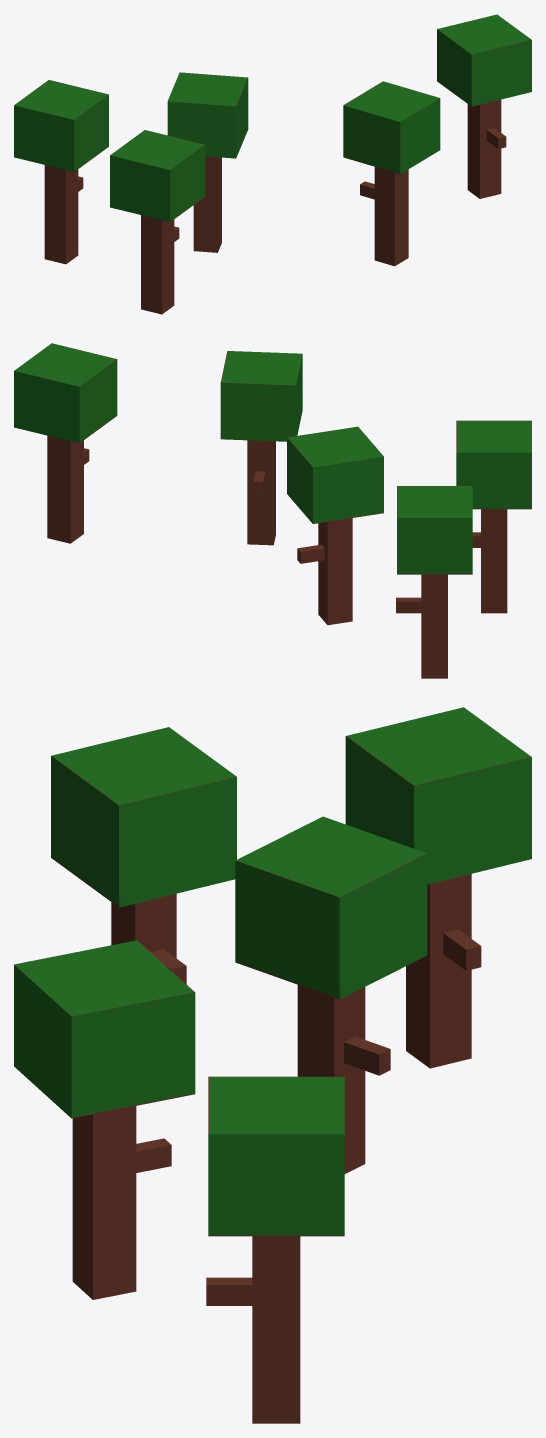
File: Trees.fbx
The picture shows the model from 3 angles, top to bottom: view 1: azimuth 30°, elevation 25°; view 2: azimuth 150°, elevation 25°; view 3: azimuth 270°, elevation 25°; orthographic projection. The views are drawn at different scales.
Visible parts, largest first — view 1: Trees; view 2: Trees; view 3: Trees.
Part boxes in pixels (x1,y1,x2,y2): Trees: (14, 14, 531, 314); Trees: (14, 343, 531, 678); Trees: (14, 707, 531, 1423).
Bounding box in the file's own units: 910 × 308 × 461.
Materials: 1 (1 with a texture image).
